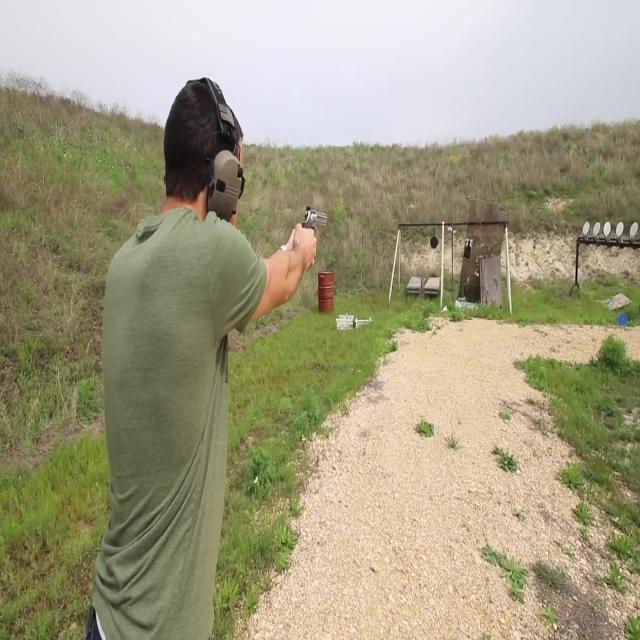Weapon: (296, 194, 345, 256)
